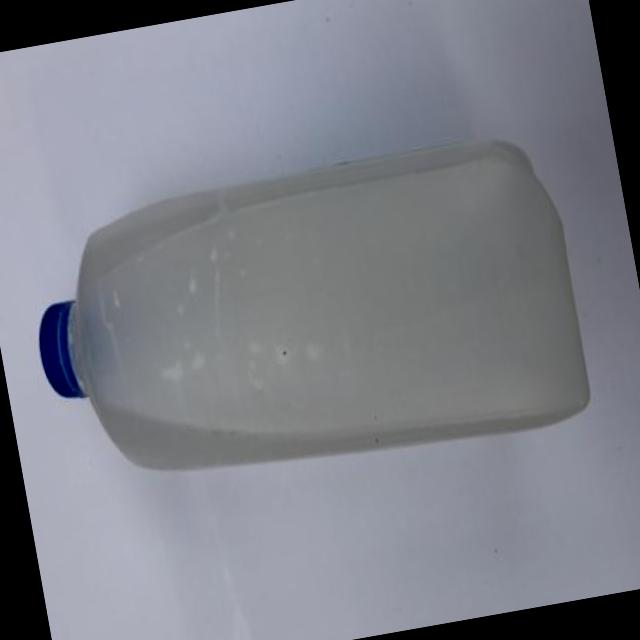Recycle: (16, 130, 598, 515)
